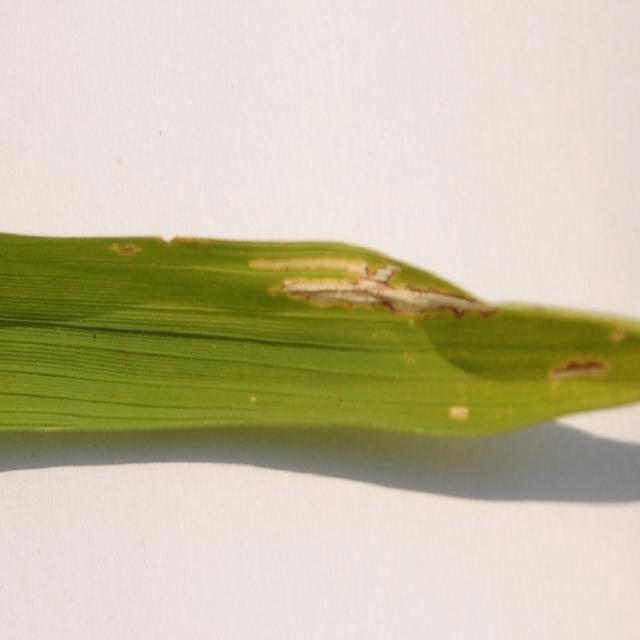bacterial_leaf_blight: (249, 257, 495, 316), (550, 361, 607, 380), (111, 243, 141, 255), (450, 407, 468, 419), (612, 328, 624, 341)
